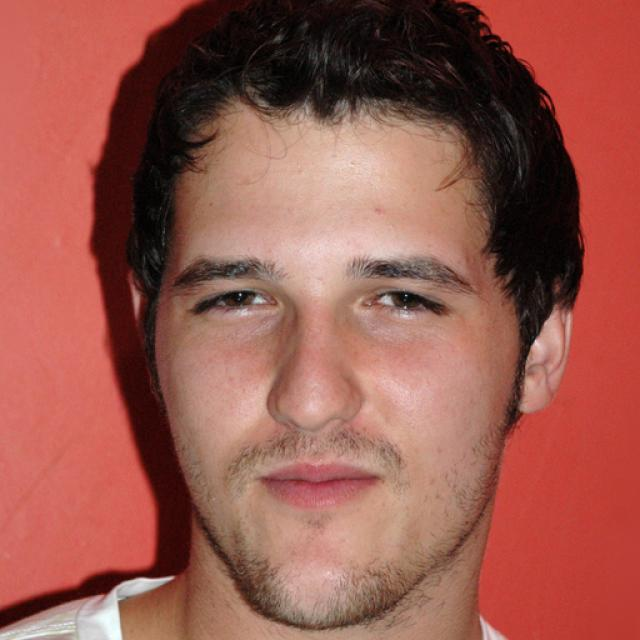Acne: (370, 203, 389, 220)
